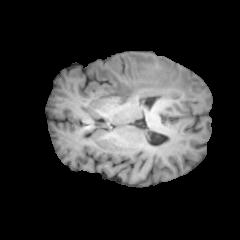glioma: (96, 53, 199, 104)
